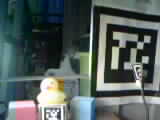duck: (32, 70, 82, 111)
